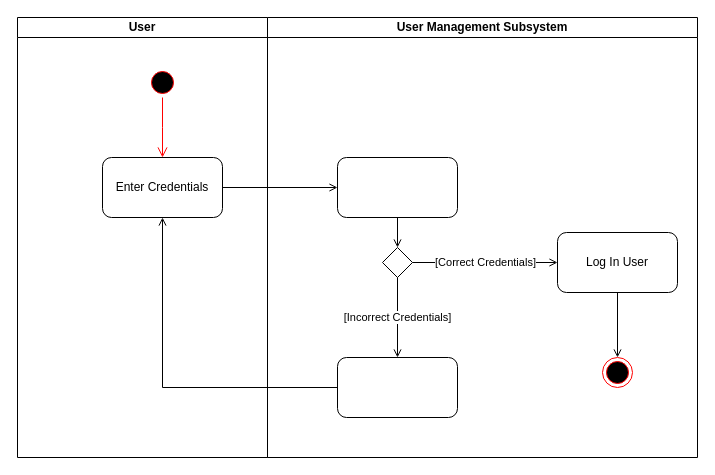
Image size: 715x475. Some labels were removed from this diagram. Each missing label, with the box of its shape:
Notify User: (336, 356, 458, 418)
Verify Credentials: (336, 156, 458, 218)
